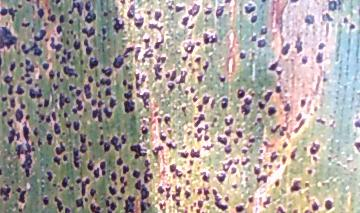tarspot: (18, 27, 46, 57), (14, 142, 34, 177), (146, 23, 168, 50), (1, 25, 19, 52), (212, 187, 228, 213), (135, 91, 152, 114), (75, 174, 90, 197), (142, 159, 154, 185), (130, 143, 147, 161), (133, 71, 148, 91), (123, 194, 138, 213), (112, 16, 126, 36), (168, 163, 184, 180), (253, 169, 271, 184), (151, 62, 163, 84), (172, 183, 182, 209), (62, 64, 79, 79), (48, 35, 62, 53), (112, 51, 125, 70), (72, 146, 81, 173), (202, 31, 218, 46), (67, 1, 83, 16), (81, 25, 97, 40), (293, 117, 307, 134), (175, 70, 189, 87), (123, 99, 136, 117), (71, 98, 84, 116), (110, 134, 121, 155), (192, 113, 206, 129), (140, 49, 154, 65), (7, 129, 21, 145), (188, 2, 201, 19), (181, 39, 194, 56), (294, 33, 304, 55), (289, 178, 301, 196), (1, 186, 13, 204), (240, 97, 251, 116), (132, 16, 145, 32), (58, 93, 71, 109), (83, 11, 97, 25), (91, 108, 103, 124), (53, 194, 63, 213), (268, 58, 281, 72), (242, 1, 256, 14), (221, 159, 235, 172), (126, 3, 138, 18), (28, 88, 43, 100), (83, 82, 92, 101), (279, 123, 289, 140), (18, 189, 28, 206), (321, 12, 335, 24), (279, 42, 291, 56), (189, 147, 201, 161), (152, 144, 164, 158), (22, 120, 30, 141), (314, 51, 325, 66), (199, 170, 210, 185), (54, 140, 65, 155), (123, 44, 134, 59), (261, 194, 271, 210), (99, 67, 115, 77), (267, 150, 280, 162), (309, 141, 320, 155), (88, 56, 99, 70), (14, 107, 23, 124), (263, 89, 273, 104), (102, 105, 112, 120), (324, 197, 333, 213), (133, 45, 141, 63), (9, 7, 18, 23), (202, 6, 215, 17), (192, 131, 203, 144), (165, 141, 178, 152), (270, 121, 280, 135), (193, 56, 203, 70), (140, 186, 150, 200), (75, 197, 85, 211), (202, 186, 211, 201), (158, 129, 167, 144), (86, 158, 95, 173), (174, 4, 186, 15), (89, 202, 101, 213), (256, 37, 266, 50), (110, 171, 118, 187), (261, 140, 275, 149), (220, 96, 229, 110), (103, 141, 112, 155), (45, 169, 54, 183), (162, 114, 171, 128), (304, 14, 315, 25), (121, 164, 132, 175), (314, 116, 326, 126), (201, 94, 211, 106), (123, 90, 135, 100), (53, 122, 61, 137), (15, 84, 25, 96), (215, 5, 224, 18), (223, 117, 236, 126), (178, 151, 191, 160), (153, 9, 162, 22), (132, 167, 141, 180), (109, 200, 118, 213), (142, 37, 151, 50), (72, 120, 81, 133), (352, 140, 360, 154), (196, 72, 204, 86), (119, 132, 127, 146), (61, 176, 69, 190), (45, 132, 53, 146), (327, 1, 337, 12), (316, 40, 326, 51), (267, 106, 278, 116), (234, 203, 245, 213), (215, 173, 225, 184), (217, 136, 228, 146), (84, 45, 94, 56), (45, 12, 55, 23), (236, 88, 245, 100), (222, 146, 234, 155), (78, 132, 87, 144), (108, 96, 117, 108), (24, 65, 36, 74), (290, 146, 297, 161), (200, 143, 215, 150), (165, 185, 172, 200), (209, 97, 217, 110), (210, 116, 218, 129), (180, 105, 188, 118), (99, 77, 112, 85), (7, 83, 15, 96), (73, 38, 81, 51), (107, 186, 117, 196), (259, 26, 268, 37), (250, 14, 259, 25), (235, 129, 244, 140), (134, 179, 143, 190), (140, 126, 149, 137), (90, 98, 99, 109), (41, 60, 50, 71), (169, 69, 176, 83), (300, 54, 308, 66), (295, 111, 303, 123), (258, 100, 266, 112), (203, 121, 211, 133), (196, 198, 204, 210), (195, 186, 203, 198), (93, 167, 101, 179), (53, 156, 61, 168), (104, 86, 112, 98), (8, 96, 16, 108), (43, 97, 51, 109), (55, 24, 63, 36), (20, 20, 32, 28), (353, 117, 360, 130), (139, 200, 146, 213), (1, 6, 8, 19), (37, 7, 44, 20), (237, 51, 247, 60), (302, 180, 311, 190), (166, 81, 175, 91), (74, 88, 83, 98), (181, 15, 189, 26), (311, 201, 319, 212), (240, 157, 251, 165), (202, 61, 210, 72), (184, 189, 192, 200), (115, 156, 123, 167), (42, 195, 50, 206), (99, 159, 107, 170), (65, 50, 73, 61), (253, 164, 260, 176), (159, 201, 166, 213), (164, 68, 171, 80), (50, 111, 57, 123), (55, 69, 62, 81), (273, 84, 282, 93), (67, 83, 76, 92), (283, 102, 291, 112), (229, 166, 237, 176), (246, 89, 256, 97), (247, 136, 255, 146), (223, 127, 231, 137), (89, 187, 97, 197), (84, 1, 92, 11), (100, 26, 108, 36), (58, 14, 66, 24), (3, 75, 13, 83), (82, 37, 90, 47), (58, 56, 66, 66), (155, 54, 162, 65), (32, 127, 39, 138), (9, 60, 16, 71), (218, 75, 226, 84), (195, 104, 204, 112), (202, 134, 211, 142), (67, 18, 76, 26), (6, 119, 14, 128), (309, 155, 319, 162), (249, 33, 256, 43), (275, 206, 285, 213), (273, 178, 280, 188), (223, 194, 230, 204), (189, 85, 196, 95), (36, 137, 43, 147), (51, 82, 58, 92), (281, 153, 287, 164), (192, 94, 198, 105), (104, 198, 110, 209), (120, 185, 126, 196), (119, 174, 125, 185), (51, 1, 64, 6), (321, 75, 329, 83), (196, 127, 204, 135), (166, 4, 174, 12), (181, 54, 189, 62), (1, 96, 9, 104), (47, 72, 55, 80), (342, 16, 349, 25), (299, 98, 306, 107), (305, 167, 314, 174), (188, 22, 195, 31), (186, 129, 193, 138), (185, 178, 192, 187), (156, 116, 163, 125), (160, 54, 167, 63), (121, 79, 128, 88), (64, 122, 73, 129), (87, 75, 94, 84), (97, 99, 104, 108), (288, 1, 300, 6), (221, 1, 233, 6), (348, 23, 356, 30), (274, 69, 281, 77), (281, 141, 288, 149), (246, 196, 253, 204), (231, 183, 238, 191), (233, 158, 240, 166), (240, 147, 247, 155), (205, 203, 212, 211), (157, 186, 165, 193), (127, 82, 134, 90), (86, 140, 93, 148), (20, 101, 27, 109), (46, 6, 53, 14), (25, 78, 33, 85), (24, 57, 31, 65), (54, 53, 61, 61), (99, 134, 104, 145), (62, 154, 68, 163), (45, 114, 51, 123), (62, 111, 68, 120), (22, 72, 31, 78), (25, 113, 32, 120), (16, 3, 23, 10), (78, 58, 85, 65), (33, 82, 40, 89), (257, 157, 263, 165), (267, 162, 273, 170), (195, 39, 201, 47), (185, 169, 193, 175), (182, 205, 188, 213), (16, 207, 24, 213), (100, 169, 106, 177), (102, 10, 108, 18), (1, 110, 7, 118), (97, 88, 101, 100), (94, 80, 99, 89), (181, 144, 187, 151), (123, 180, 129, 187), (153, 111, 159, 118), (124, 65, 131, 71), (39, 114, 45, 121), (36, 102, 43, 108), (1, 55, 4, 69), (41, 22, 48, 28), (19, 76, 25, 83), (18, 62, 25, 68), (72, 33, 79, 39), (303, 208, 311, 213), (233, 137, 238, 145), (189, 204, 194, 212), (146, 201, 151, 209), (119, 1, 127, 6), (101, 35, 106, 43), (54, 97, 59, 105), (292, 207, 298, 213), (262, 163, 268, 169), (188, 160, 194, 166), (64, 207, 70, 213), (1, 166, 4, 178), (15, 187, 21, 193), (69, 185, 75, 191), (64, 39, 70, 45), (66, 28, 70, 37), (184, 88, 189, 95), (276, 162, 280, 170), (259, 148, 263, 156), (105, 209, 113, 213), (84, 196, 88, 204), (83, 67, 87, 75), (194, 208, 200, 213), (98, 125, 104, 130), (38, 74, 43, 80), (44, 37, 49, 43), (35, 1, 39, 8), (70, 29, 74, 36), (127, 1, 136, 4), (35, 111, 40, 115), (259, 1, 265, 4), (336, 6, 341, 9), (337, 1, 340, 5), (25, 1, 33, 2)
